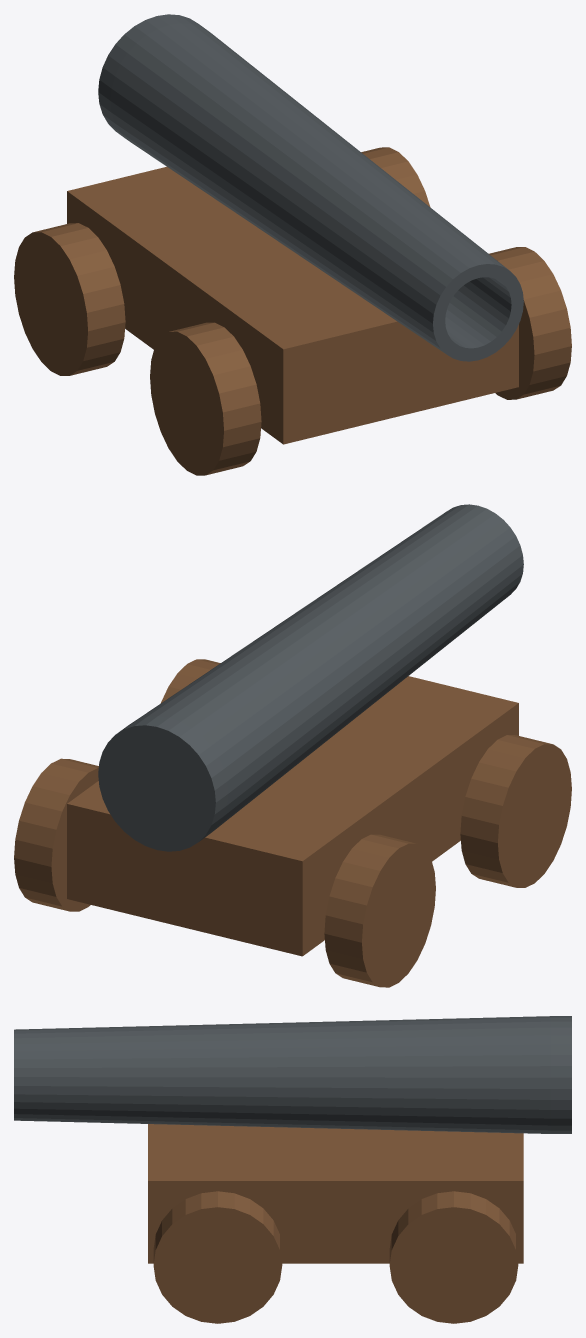
The model's file is SM_Module_Cannon.glb.
3 renders of one model, top to bottom at view 1: azimuth 30°, elevation 25°; view 2: azimuth 150°, elevation 25°; view 3: azimuth 270°, elevation 25°, orthographic. The views are drawn at different scales.
Visible parts, largest first — view 1: SM_Module_Cannon; view 2: SM_Module_Cannon; view 3: SM_Module_Cannon.
Boxes of the visible parts, box(x1,y1,x2,y2) form: SM_Module_Cannon: box(14, 14, 571, 475); SM_Module_Cannon: box(14, 504, 571, 987); SM_Module_Cannon: box(14, 1016, 571, 1323).
Size of the model in its own units: 0.65 by 0.47 by 1.04.
